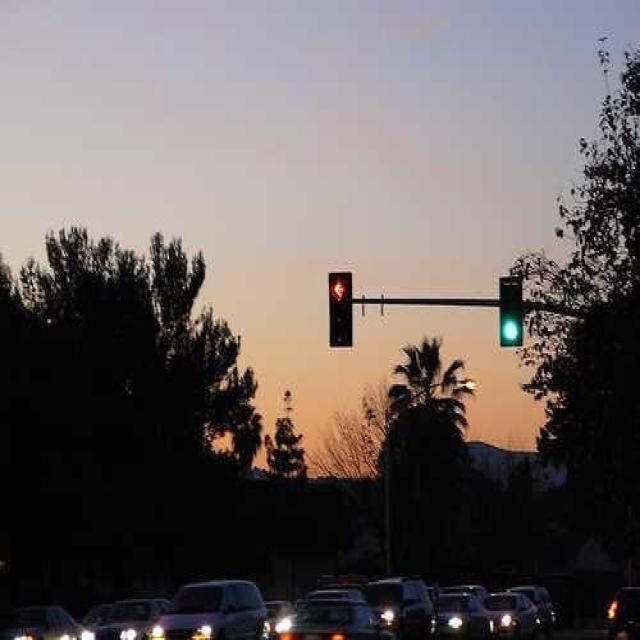Traffic Light -Green-: (496, 272, 528, 354)
Traffic Light -Red-: (320, 266, 356, 354)
